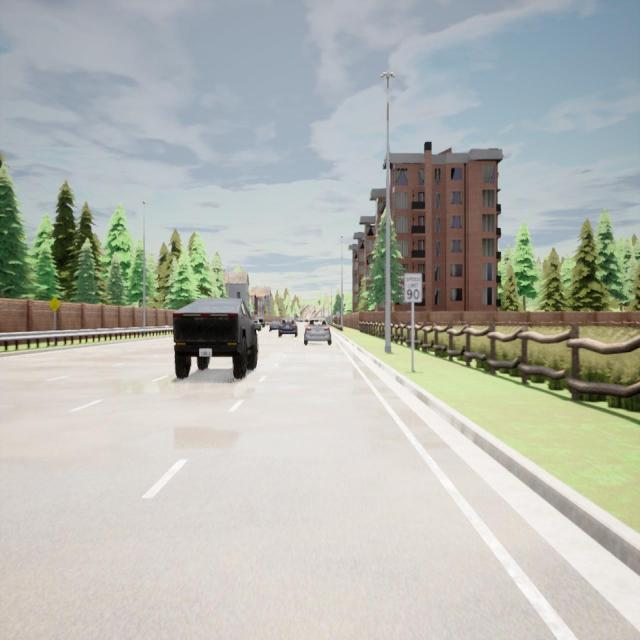Traffic_Signs: (405, 274, 421, 302), (49, 296, 60, 311), (336, 311, 340, 317)
Vehicle: (175, 298, 257, 379), (304, 317, 332, 346), (278, 318, 298, 337), (252, 319, 261, 332), (269, 321, 278, 331), (257, 319, 266, 327)
